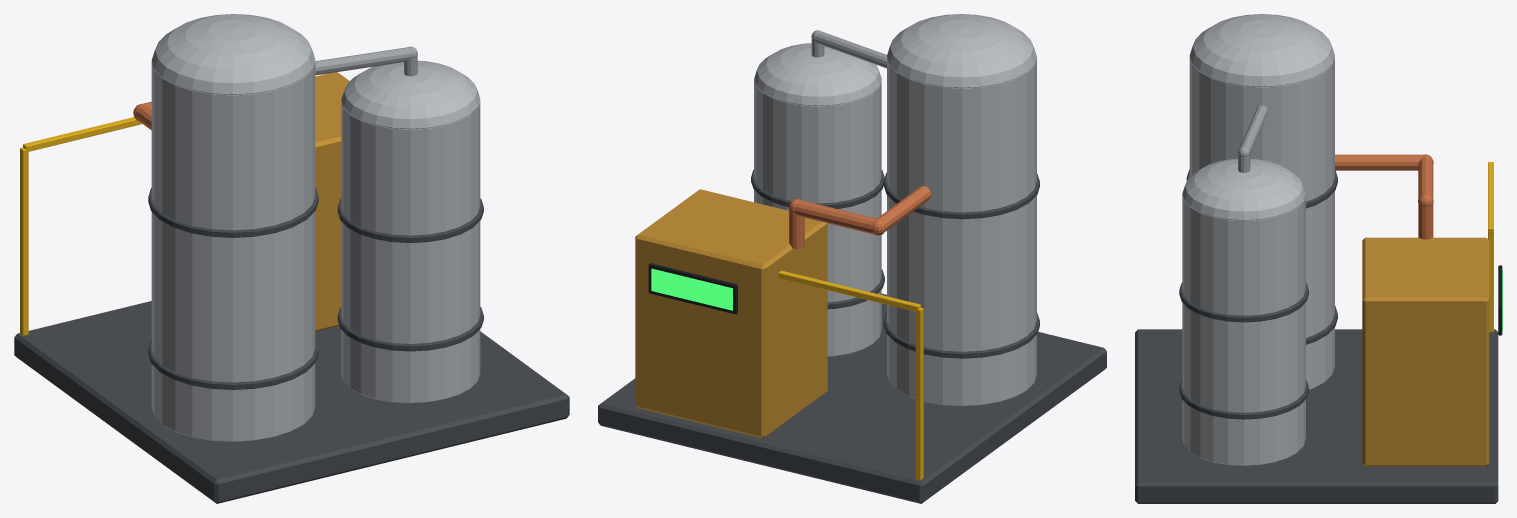
Rendered from refinery.glb.
The picture shows the model from 3 angles, left to right: view 1: azimuth 30°, elevation 25°; view 2: azimuth 150°, elevation 25°; view 3: azimuth 270°, elevation 25°; orthographic projection. The views are drawn at different scales.
Parts seen in each view (by area): view 1: refinery; view 2: refinery; view 3: refinery.
Part boxes in pixels (x1=…): refinery: x1=14, y1=14, x2=569, y2=503; refinery: x1=598, y1=14, x2=1106, y2=503; refinery: x1=1135, y1=14, x2=1502, y2=503.
Size of the model in its own units: 2.4 by 2.6 by 2.4.
